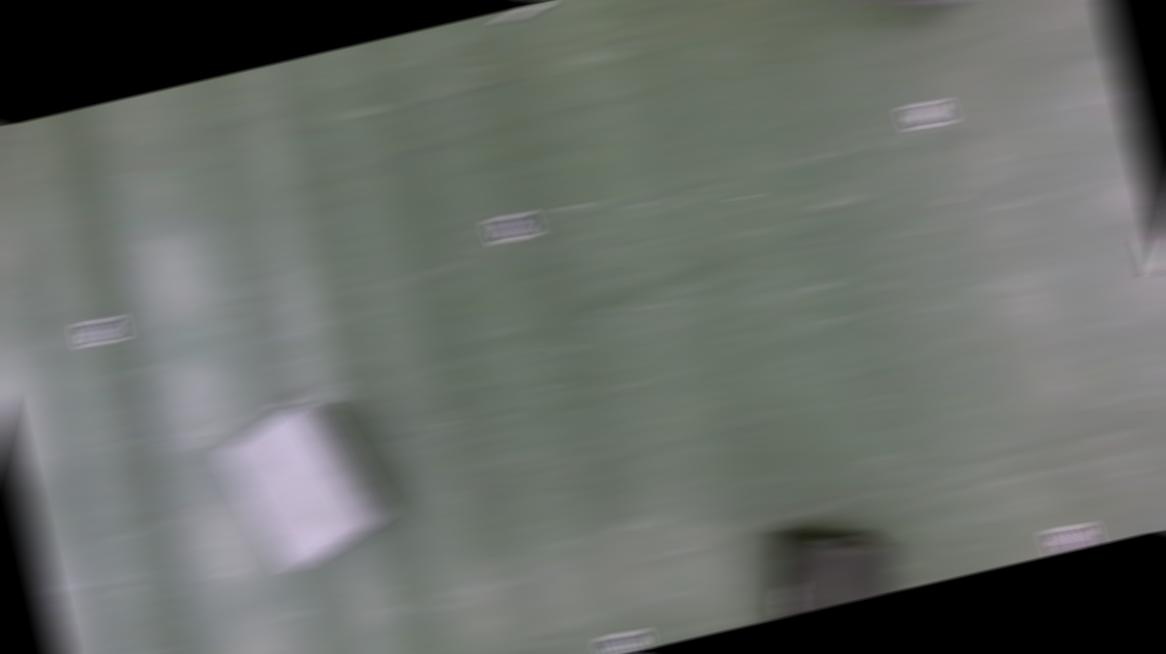probes: (1139, 228, 1166, 275), (494, 2, 548, 23)
rako: (201, 380, 412, 602), (739, 504, 909, 620), (804, 1, 1032, 34)
